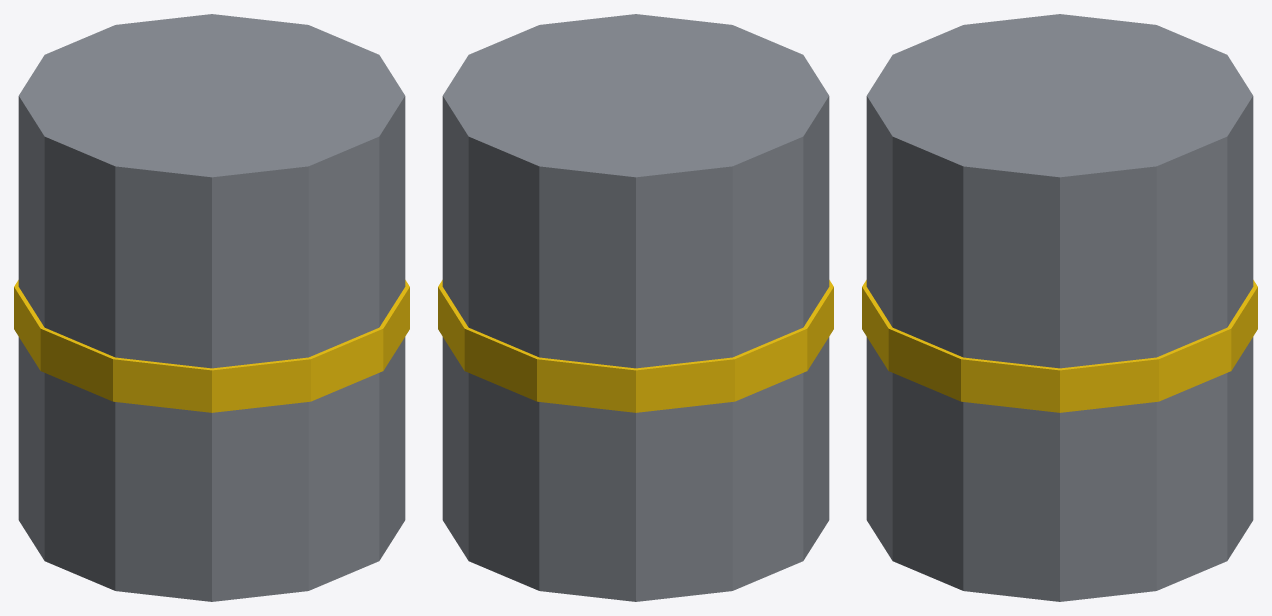
The model's file is TL_Socket_24.fbx.
3 views of the same model, side by side, from view 1: azimuth 30°, elevation 25°; view 2: azimuth 150°, elevation 25°; view 3: azimuth 270°, elevation 25° (orthographic).
Visible parts, largest first — view 1: TL_Socket_24, TL_Socket_24_ColorRing; view 2: TL_Socket_24, TL_Socket_24_ColorRing; view 3: TL_Socket_24, TL_Socket_24_ColorRing.
Part boxes in pixels (x1,y1,x2,y2): TL_Socket_24: (18, 14, 405, 601); TL_Socket_24_ColorRing: (14, 280, 409, 412); TL_Socket_24: (442, 14, 829, 601); TL_Socket_24_ColorRing: (438, 280, 833, 412); TL_Socket_24: (866, 14, 1253, 601); TL_Socket_24_ColorRing: (862, 280, 1257, 412).
Size of the model in its own units: 0.0338 by 0.04 by 0.0338.
1 material, 1 textured.
